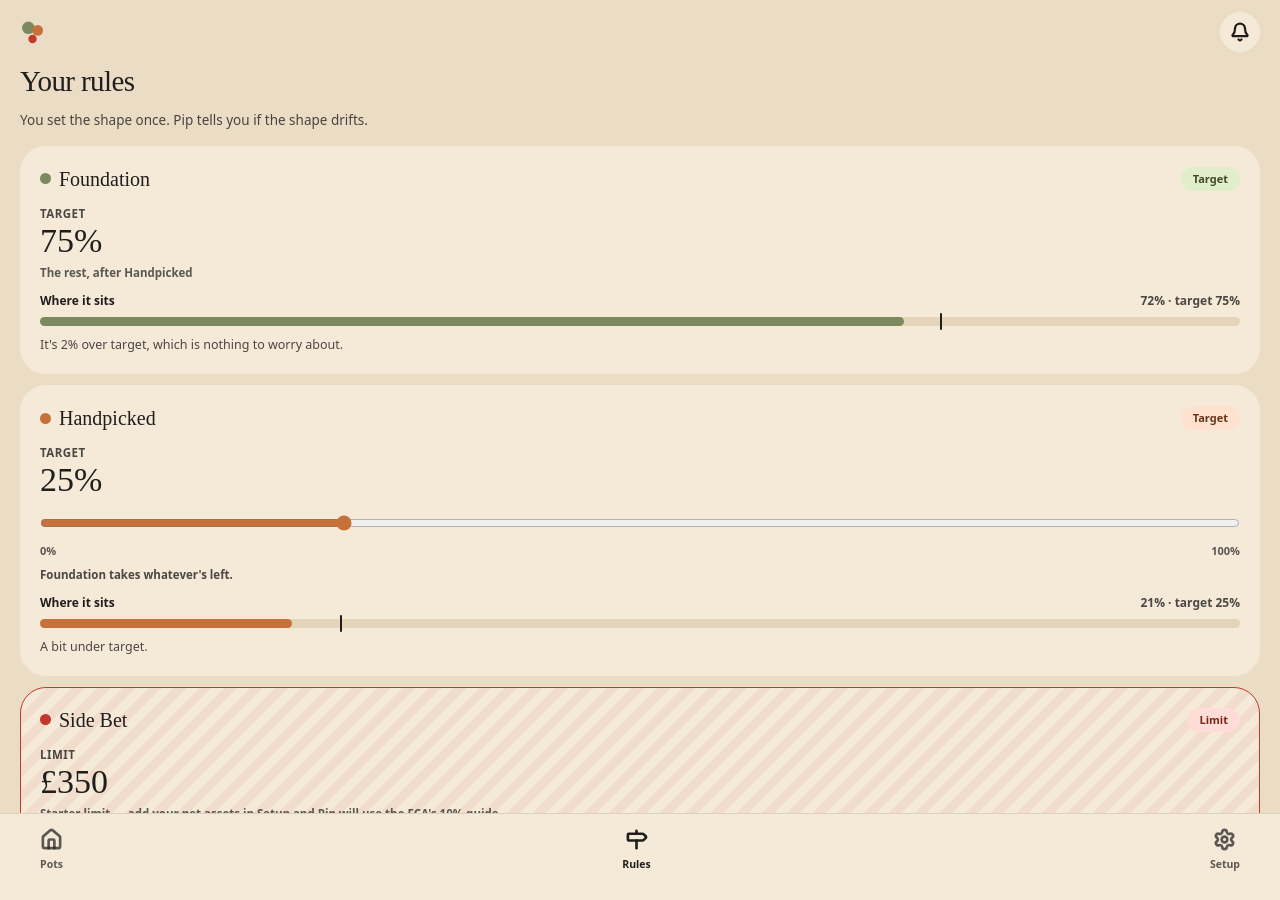
changing your rules › shows no Save until something has changed
Expected: the button "Save rules" is not shown
Set the slider named "Handpicked's target" to "32" at (427, 523), box [40,509,1240,537]
(page scrolled)
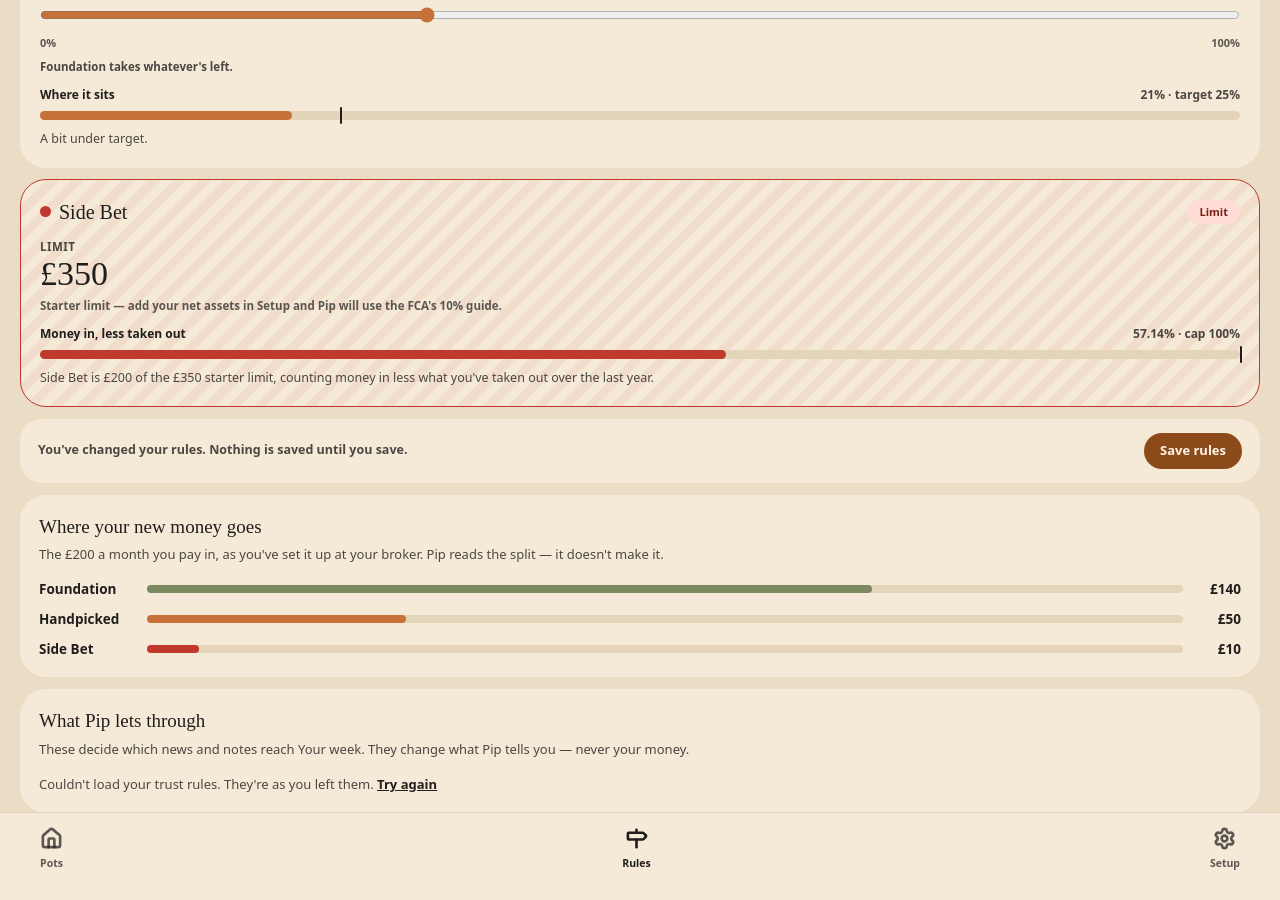
Result: the text "You've changed your rules. Nothing is saved until you save." is shown at [38,441,408,458]
Result: the button "Save rules" is enabled at [1144,433,1242,468]
